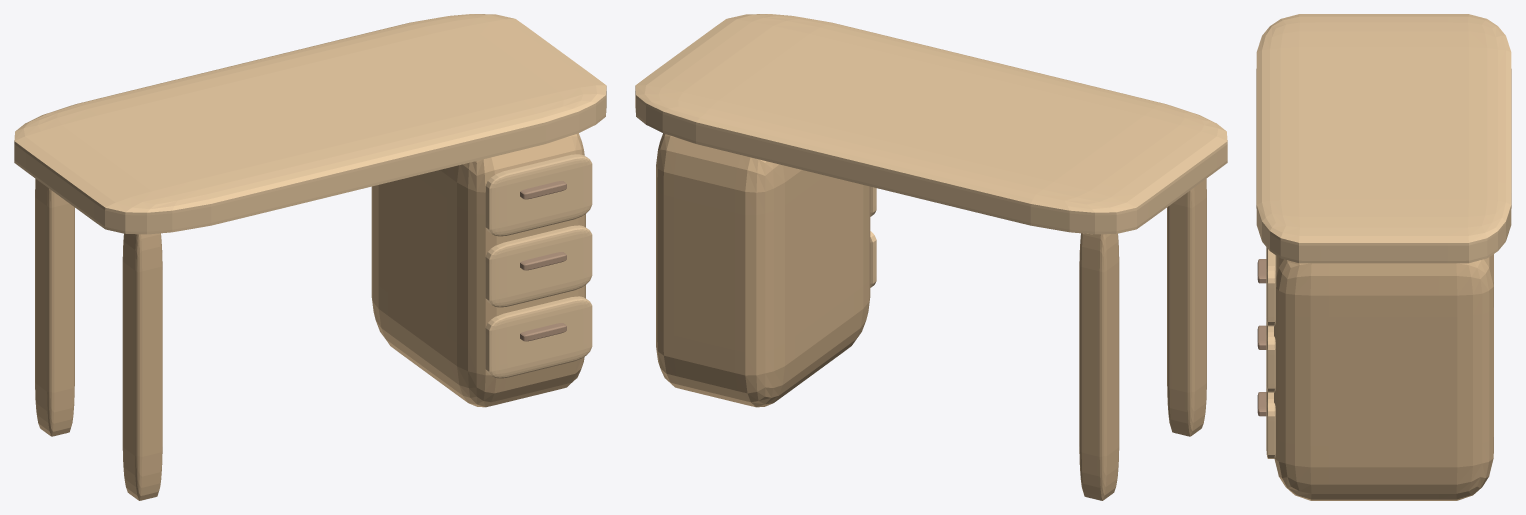
Rendered from desk.glb.
3 views of the same model, side by side, from view 1: azimuth 30°, elevation 25°; view 2: azimuth 150°, elevation 25°; view 3: azimuth 270°, elevation 25° (orthographic). The views are drawn at different scales.
Visible parts, largest first — view 1: top, pedestal, leg-0.28, leg0.28, drawer2, drawer0, drawer1; view 2: top, pedestal, leg0.28, leg-0.28; view 3: top, pedestal, drawer2, drawer1, drawer0.
Part boxes in pixels (box(x1,y1,x2,y2)): top: box(14, 14, 606, 234); pedestal: box(371, 133, 585, 407); leg-0.28: box(122, 233, 162, 500); leg0.28: box(35, 178, 74, 436); drawer2: box(485, 154, 592, 236); drawer0: box(485, 296, 592, 378); drawer1: box(485, 225, 592, 307); top: box(635, 14, 1227, 234); pedestal: box(656, 133, 870, 407); leg0.28: box(1079, 233, 1119, 500); leg-0.28: box(1167, 178, 1206, 436); top: box(1256, 14, 1511, 263); pedestal: box(1274, 254, 1493, 500); drawer2: box(1266, 247, 1276, 326); drawer1: box(1266, 318, 1275, 392); drawer0: box(1266, 385, 1275, 458).
Size of the model in its own units: 1.85 by 1.07 by 0.87.
